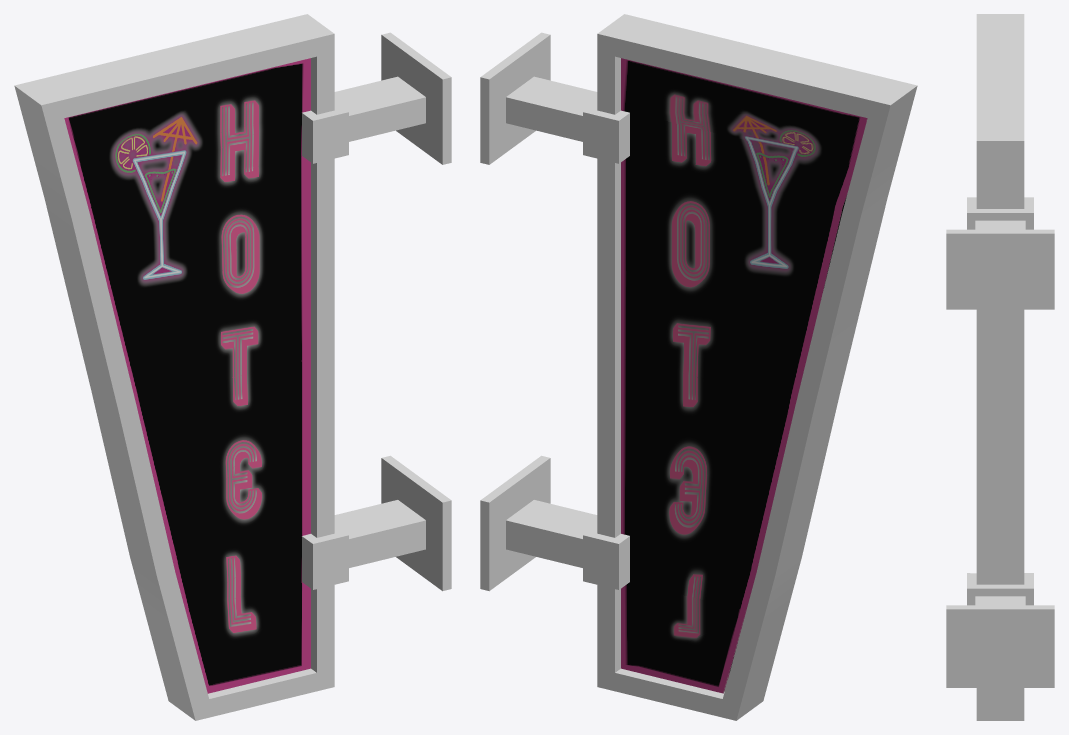
The model's file is Cartel.fbx.
The picture shows the model from 3 angles, left to right: view 1: azimuth 30°, elevation 25°; view 2: azimuth 150°, elevation 25°; view 3: azimuth 270°, elevation 25°; orthographic projection. The views are drawn at different scales.
Parts seen in each view (by area): view 1: pCube5; view 2: pCube5; view 3: pCube5.
Part boxes in pixels (bbox=[...]): pCube5: bbox=[14, 14, 451, 720]; pCube5: bbox=[480, 14, 917, 720]; pCube5: bbox=[946, 14, 1054, 720].
Size of the model in its own units: 644 by 1022 by 173.
